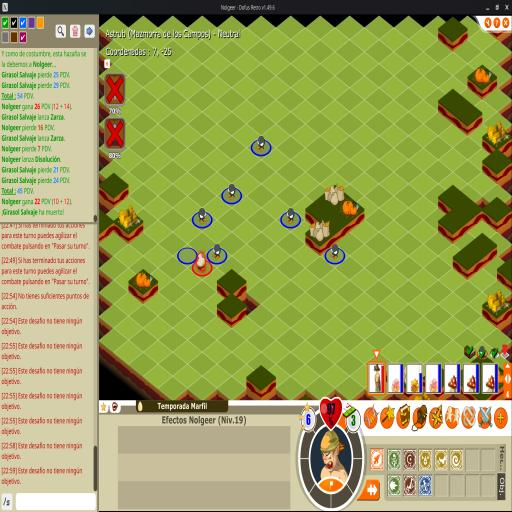Enemigos: (197, 207, 208, 224), (226, 183, 237, 200), (212, 243, 222, 261), (256, 135, 266, 152), (330, 243, 340, 260), (285, 208, 295, 224)
Personaje: (196, 252, 208, 272)
